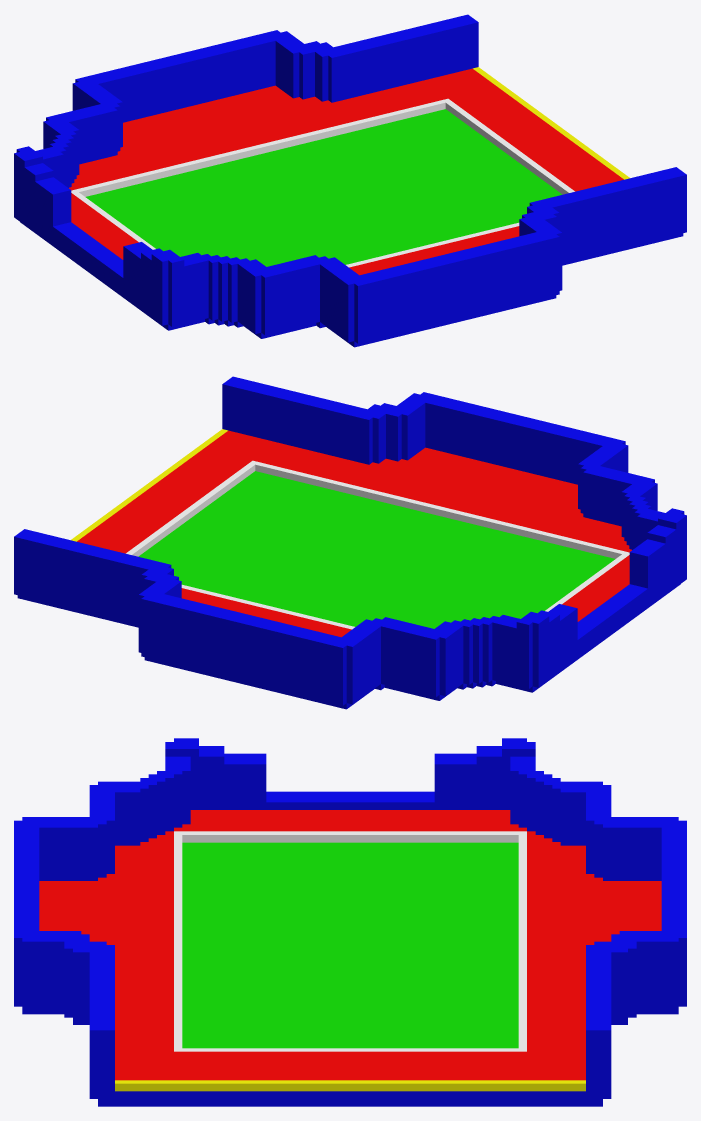
The model's file is Platform.fbx.
3 renders of one model, top to bottom at view 1: azimuth 30°, elevation 25°; view 2: azimuth 150°, elevation 25°; view 3: azimuth 270°, elevation 25°, orthographic. The views are drawn at different scales.
Visible parts, largest first — view 1: Platform; view 2: Platform; view 3: Platform.
Part boxes in pixels (x1,y1,x2,y2): Platform: (14, 14, 686, 347); Platform: (14, 376, 686, 709); Platform: (14, 738, 686, 1106).
Bounding box in the file's own units: 800 × 110 × 800.
